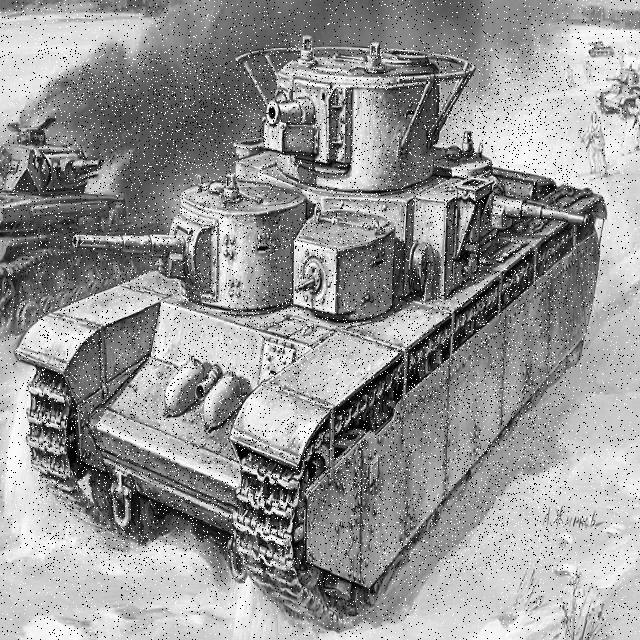MIL_MBT: (38, 49, 568, 572), (7, 110, 144, 317)
